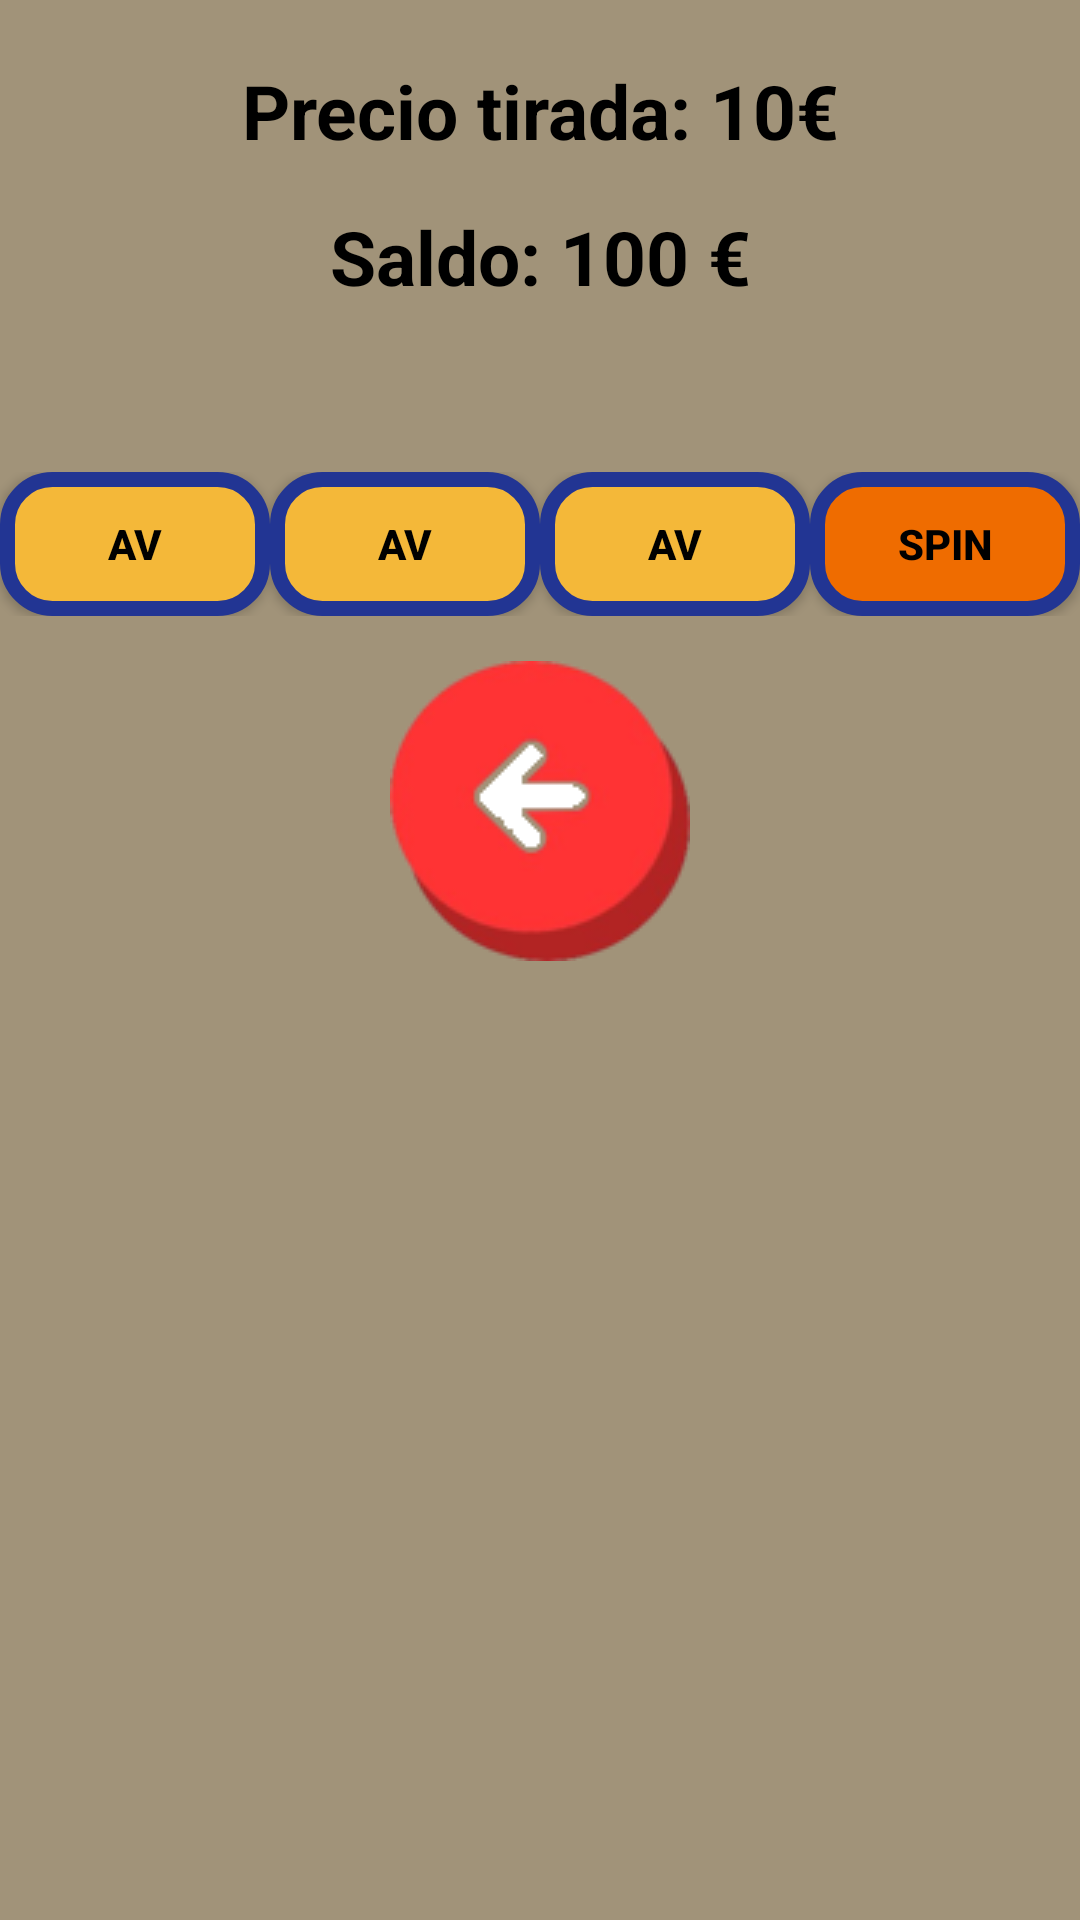

Where icons sit on this 1080px x 1920px app screen, as Rect(x1, y1, x2, y2):
back: Rect(390, 661, 690, 961)
